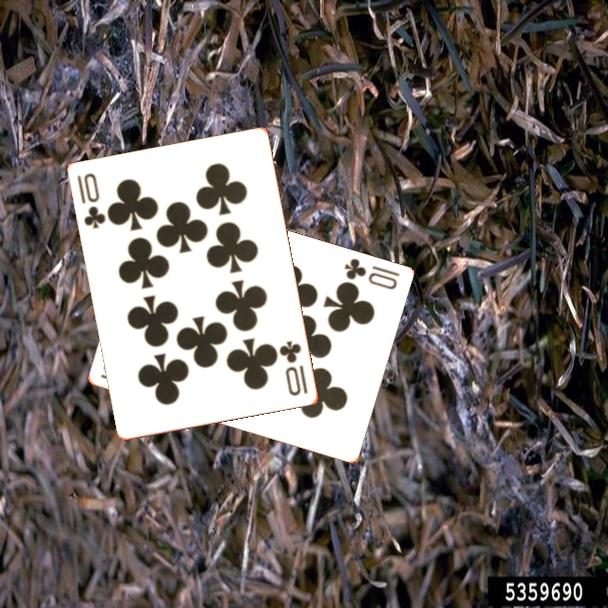c10: (340, 255, 402, 293), (276, 337, 311, 399), (74, 170, 109, 232)
